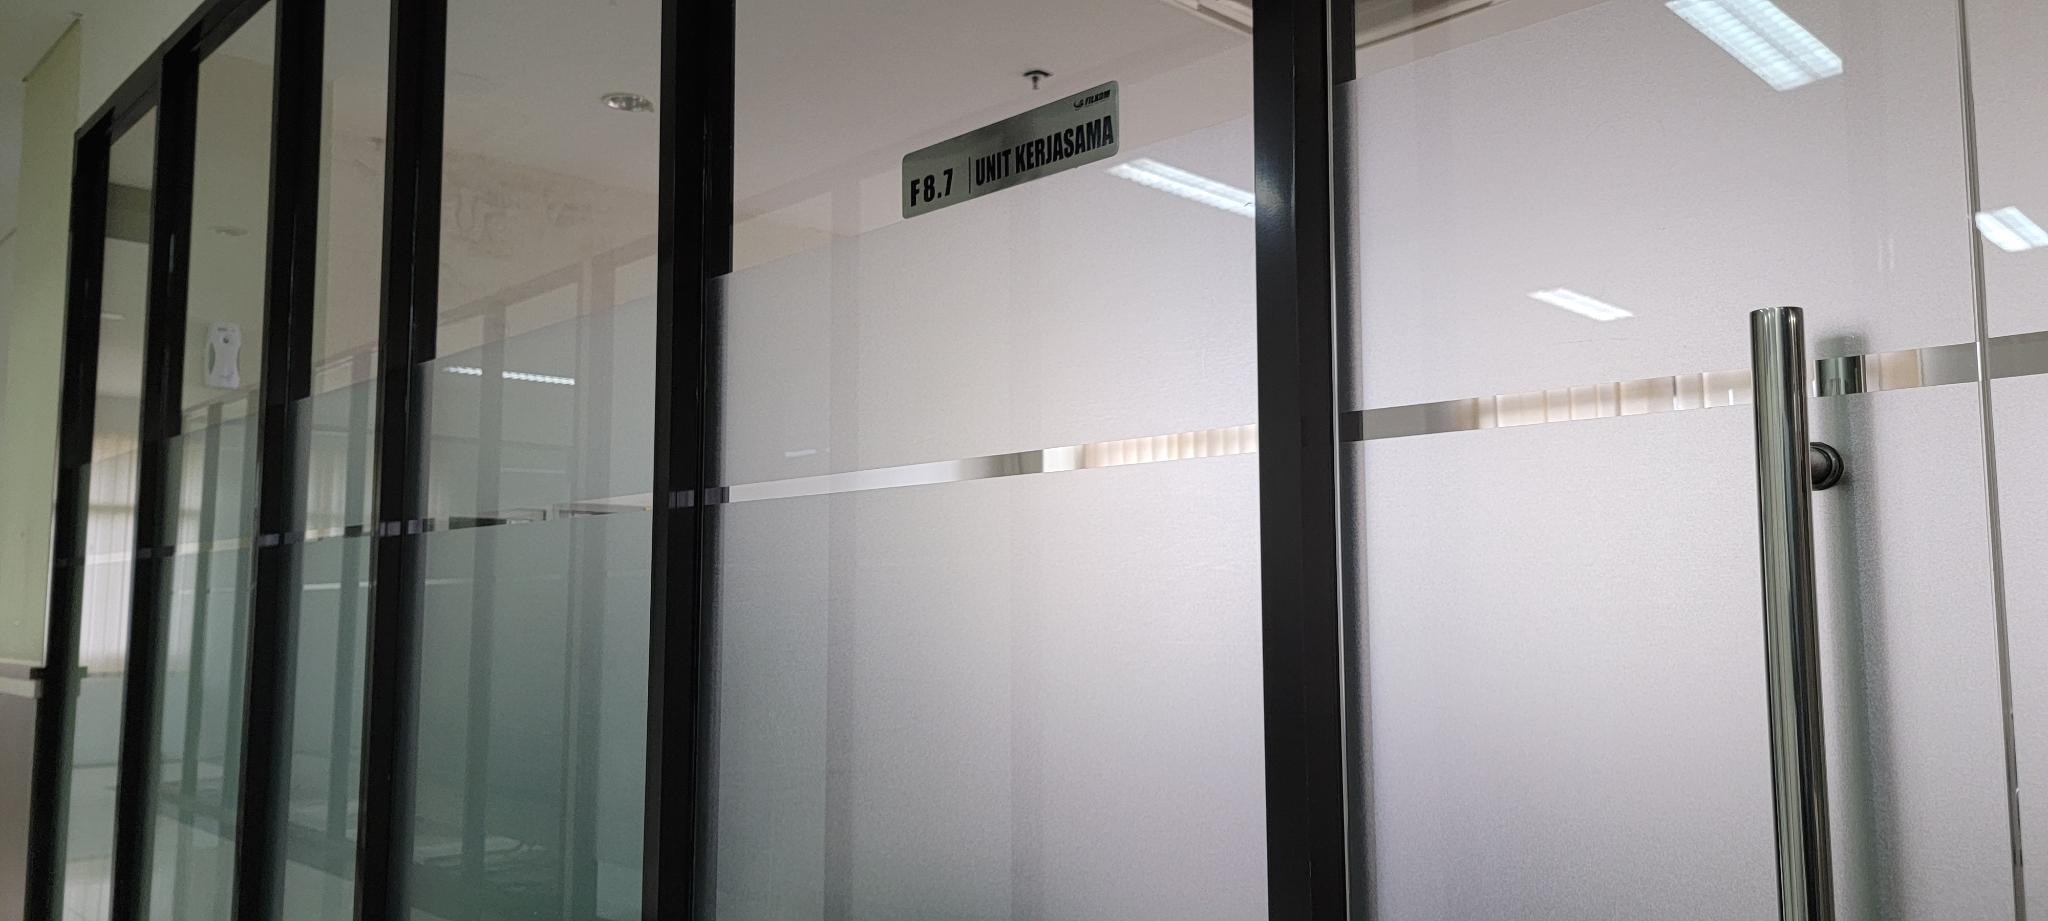plate: (900, 77, 1119, 223)
